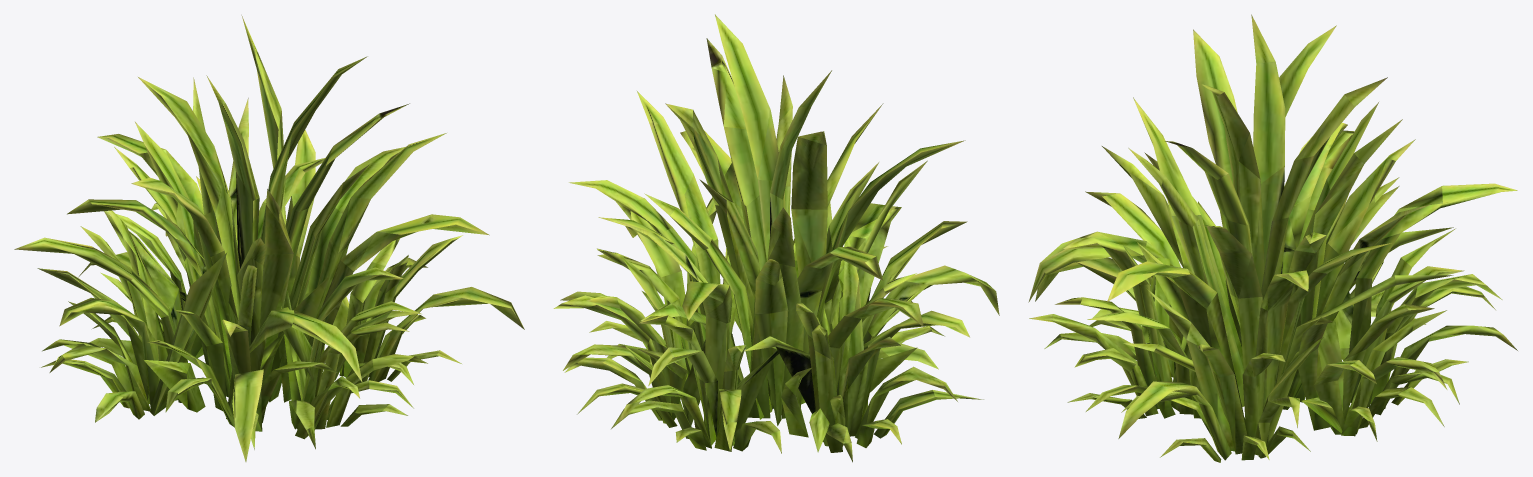
The model's file is grass-cluster.glb.
The picture shows the model from 3 angles, left to right: view 1: azimuth 30°, elevation 25°; view 2: azimuth 150°, elevation 25°; view 3: azimuth 270°, elevation 25°; orthographic projection. The views are drawn at different scales.
Size of the model in its own units: 1 by 0.8164 by 1.
Materials: 1 (1 with a texture image).
